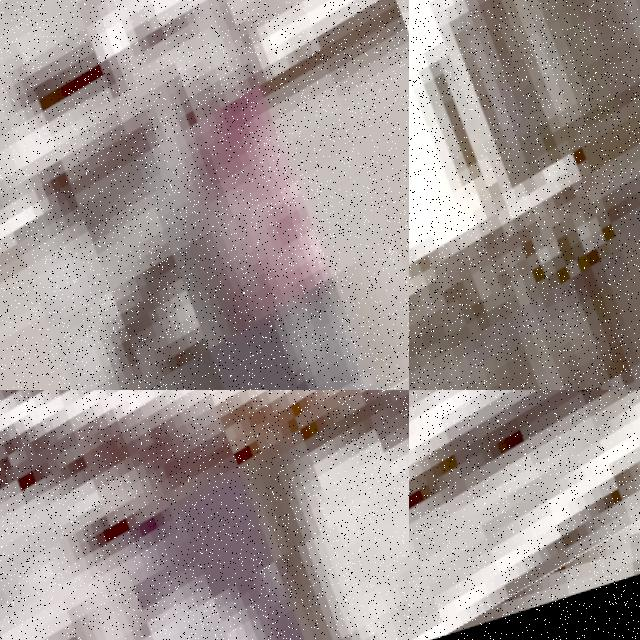0: (0, 0, 409, 390), (0, 390, 409, 640), (409, 390, 640, 640)
drone: (409, 0, 640, 390)
